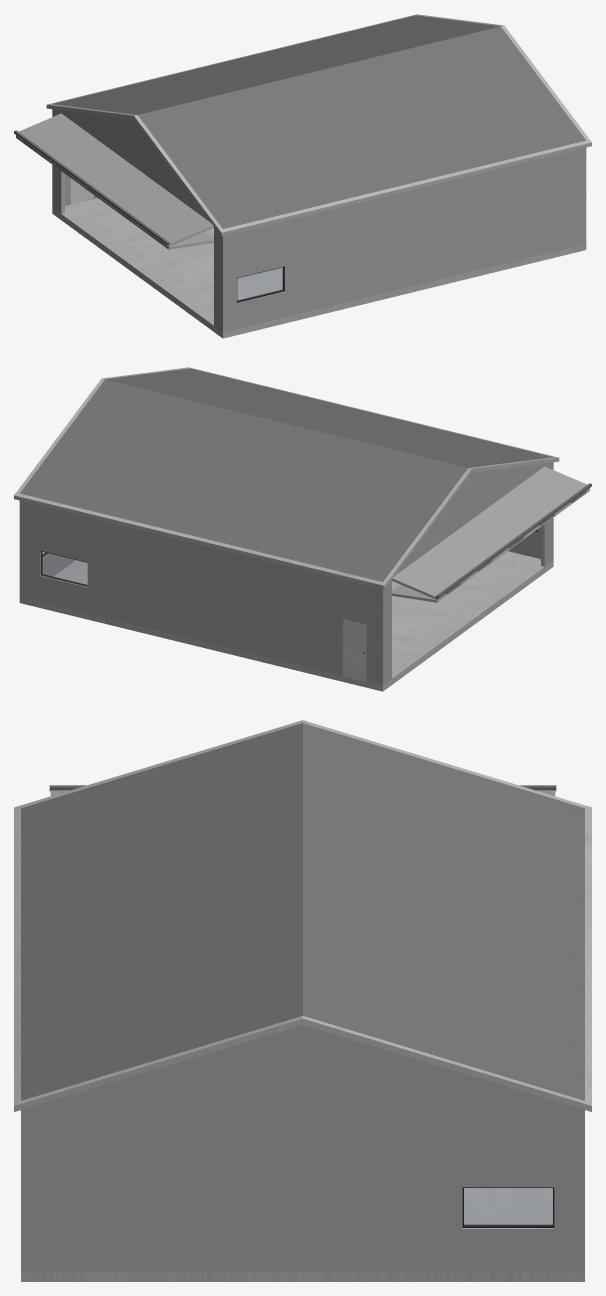
Rendered from gen_open_hangar06-12x15x4-cbj_LOD02.gltf.
3 views of the same model, one above another, from view 1: azimuth 30°, elevation 25°; view 2: azimuth 150°, elevation 25°; view 3: azimuth 270°, elevation 25° (orthographic). The views are drawn at different scales.
Parts seen in each view (by area): view 1: Cube.021; view 2: Cube.021; view 3: Cube.021.
Boxes of the visible parts, <box> form: Cube.021: <box>14,14,591,338</box>; Cube.021: <box>14,367,591,691</box>; Cube.021: <box>14,720,591,1281</box>.
Bounding box in the file's own units: 17.2 × 6.4 × 12.6.
